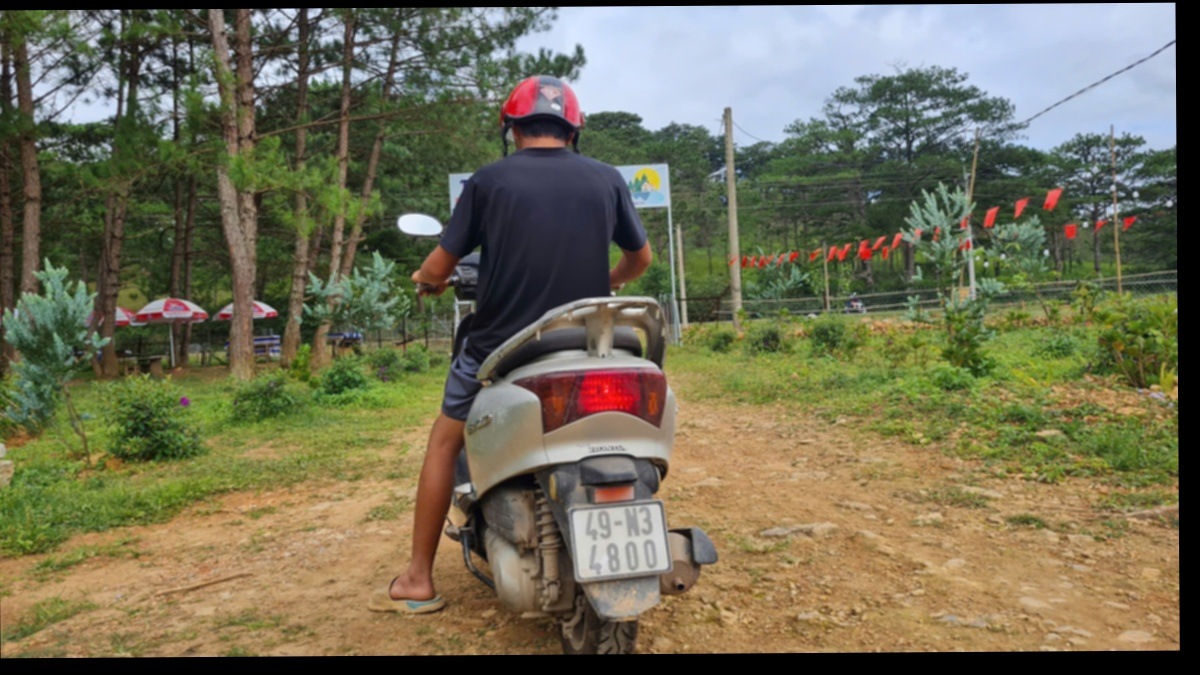Bien-so: (581, 532, 693, 635)
